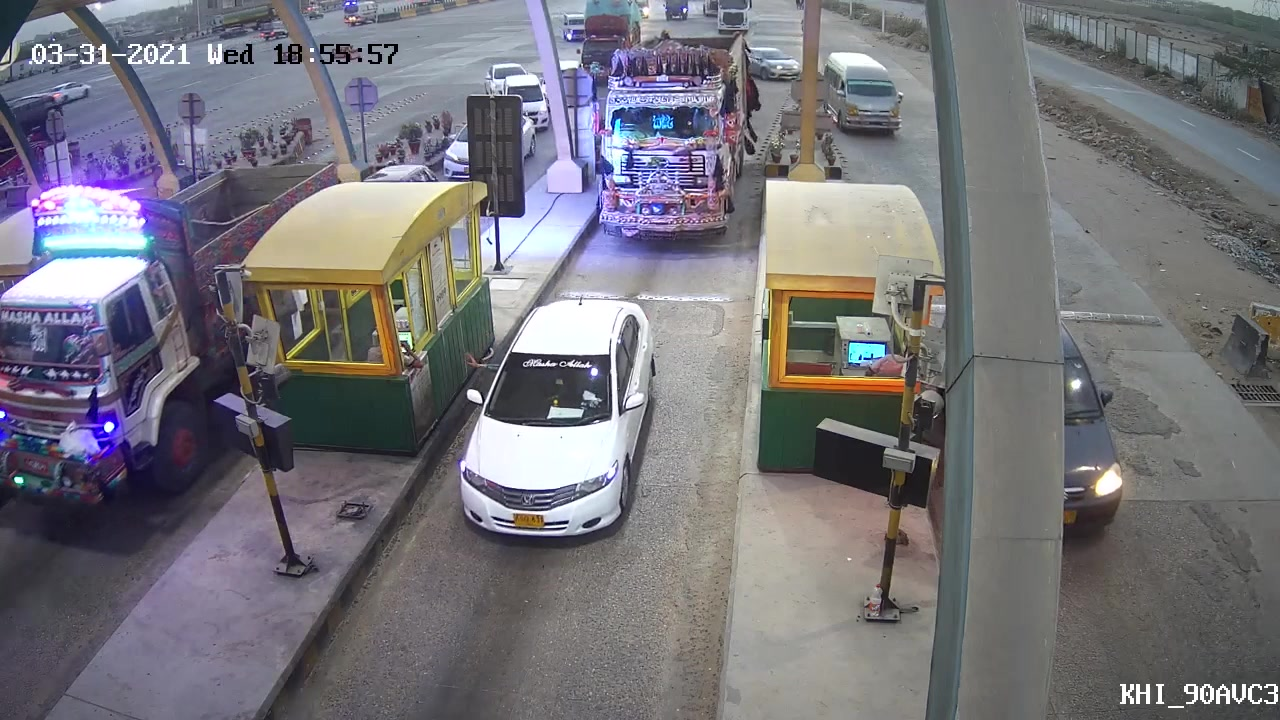F1: (440, 299, 654, 541)
F5: (581, 25, 757, 248)
